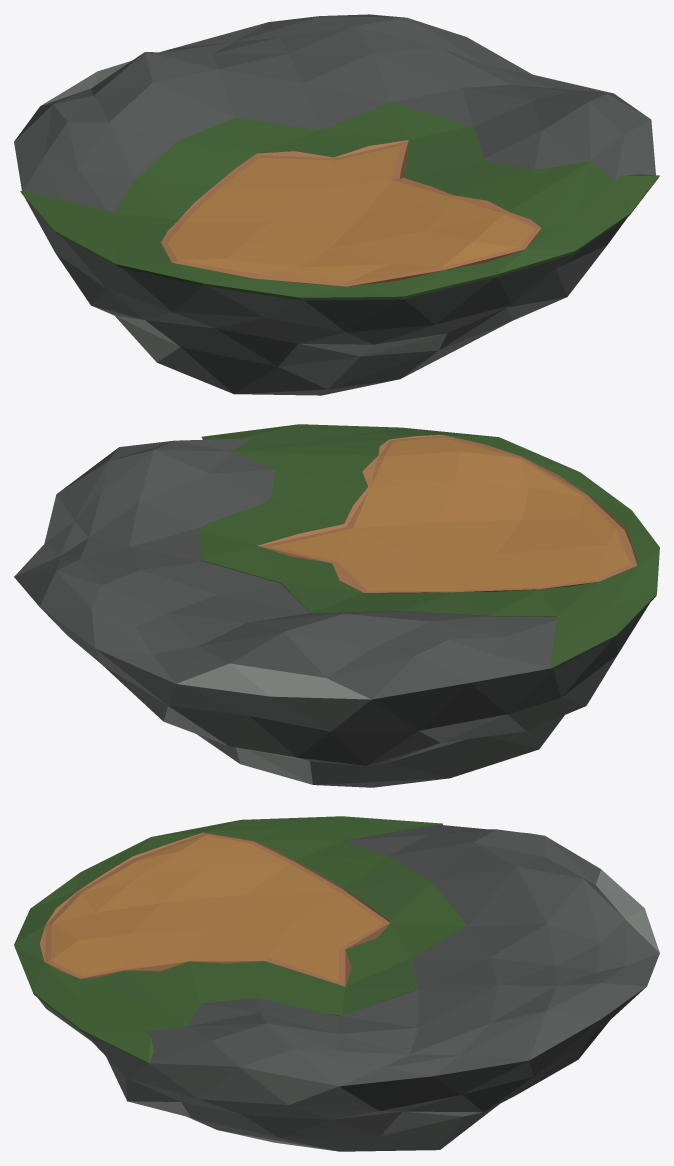
Rendered from Object_Floating_Island.fbx.
The picture shows the model from 3 angles, top to bottom: view 1: azimuth 30°, elevation 25°; view 2: azimuth 150°, elevation 25°; view 3: azimuth 270°, elevation 25°; orthographic projection.
Visible parts, largest first — view 1: floating_island; view 2: floating_island; view 3: floating_island.
Part boxes in pixels (bbox=[...]): floating_island: bbox=[14, 14, 659, 395]; floating_island: bbox=[14, 424, 659, 787]; floating_island: bbox=[14, 816, 659, 1151].
Size of the model in its own units: 2.5 by 1 by 2.5.
